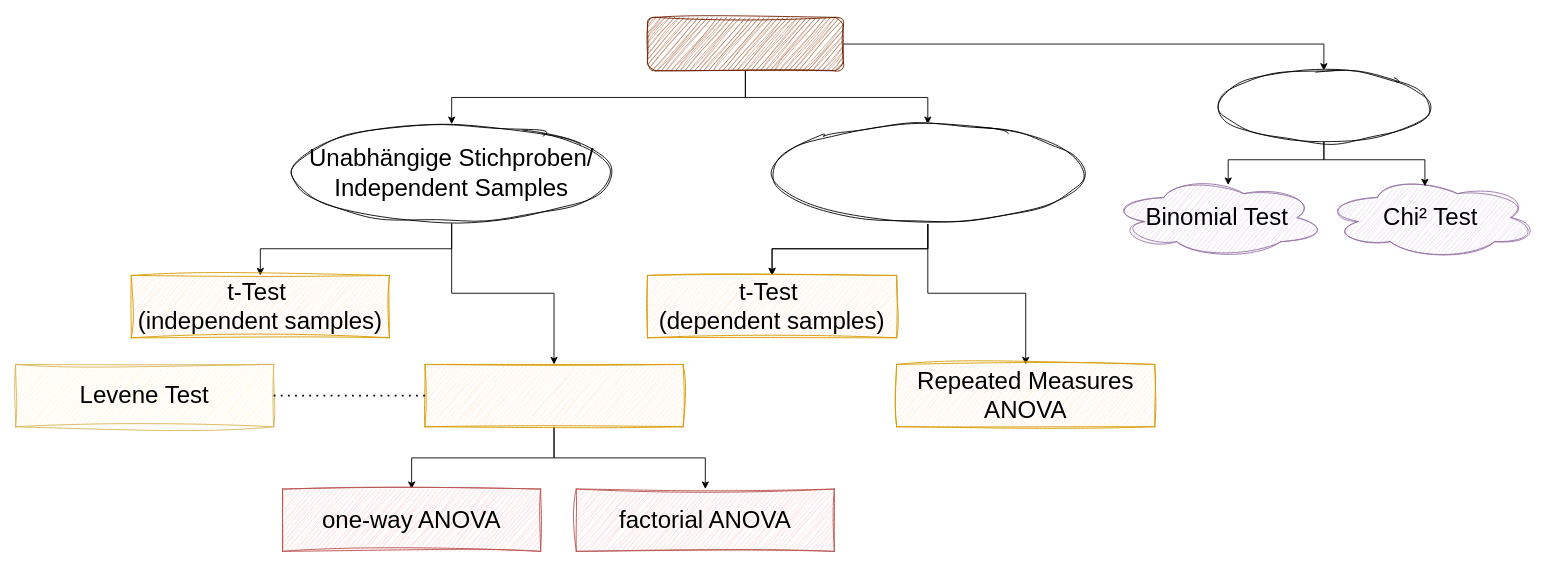
The diagram is 1553 pixels wide and 567 high, and some of its shapes have lost their labels. Here are the shapes that lost their labels. From the top down, the centre of each, then its label:
At (745,43): "Unterschiede/ Differences".
At (1323,106): "Proportionen/ Proportions".
At (927,172): "Abhängige Stichproben/ Dependent Samples".
At (553,395): "ANOVA".
